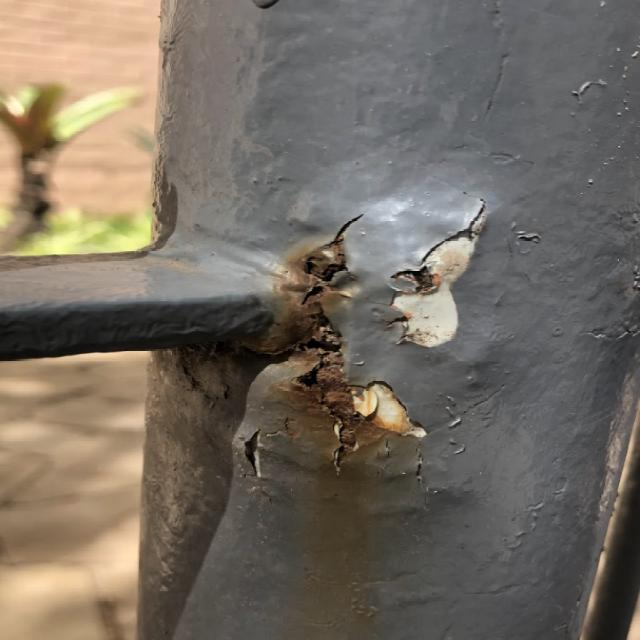Corrosion: (268, 224, 448, 472)
